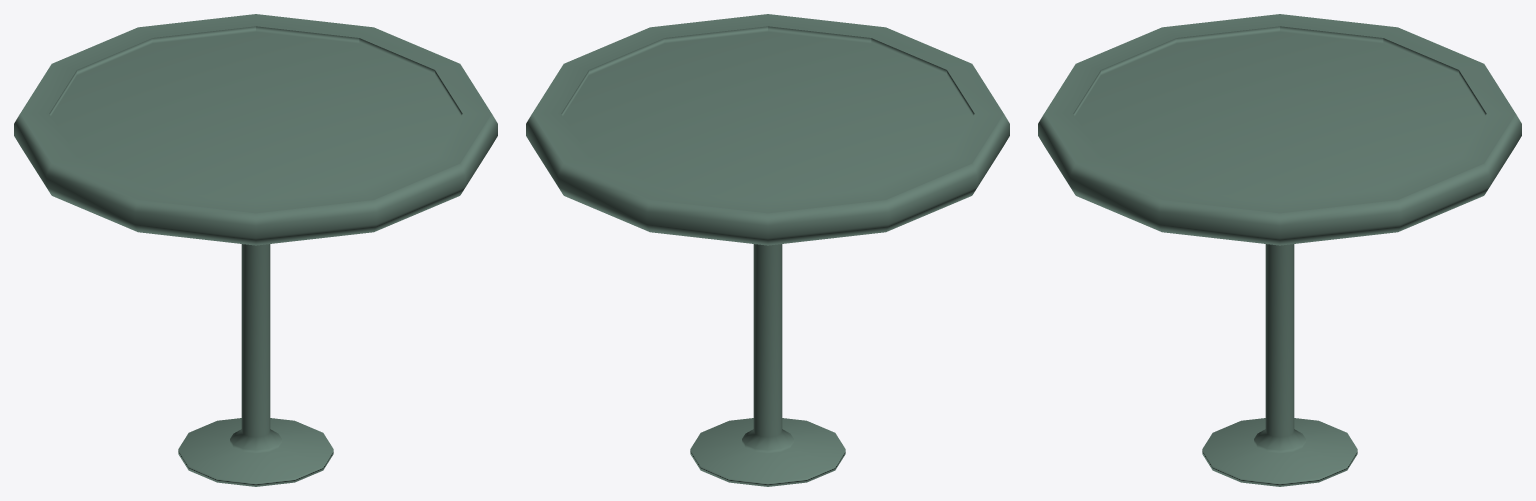
Rendered from table.fbx.
3 views of the same model, side by side, from view 1: azimuth 30°, elevation 25°; view 2: azimuth 150°, elevation 25°; view 3: azimuth 270°, elevation 25° (orthographic).
Visible parts, largest first — view 1: table1; view 2: table1; view 3: table1.
Boxes of the visible parts, box(x1,y1,x2,y2) form: table1: box(14, 14, 497, 486); table1: box(526, 14, 1009, 486); table1: box(1038, 14, 1521, 486).
Bounding box in the file's own units: 0.7837 × 0.6085 × 0.7837.
